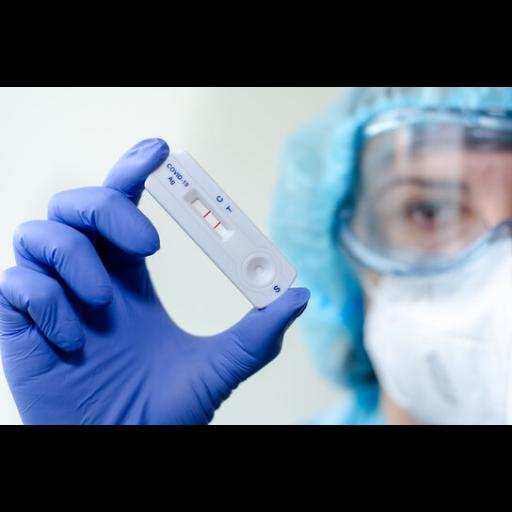Pos: (135, 141, 301, 312)
